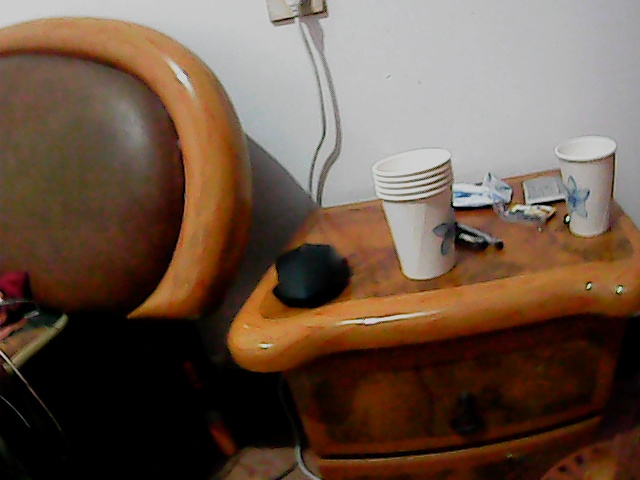cup: (371, 146, 472, 281)
mouse: (267, 239, 355, 309)
